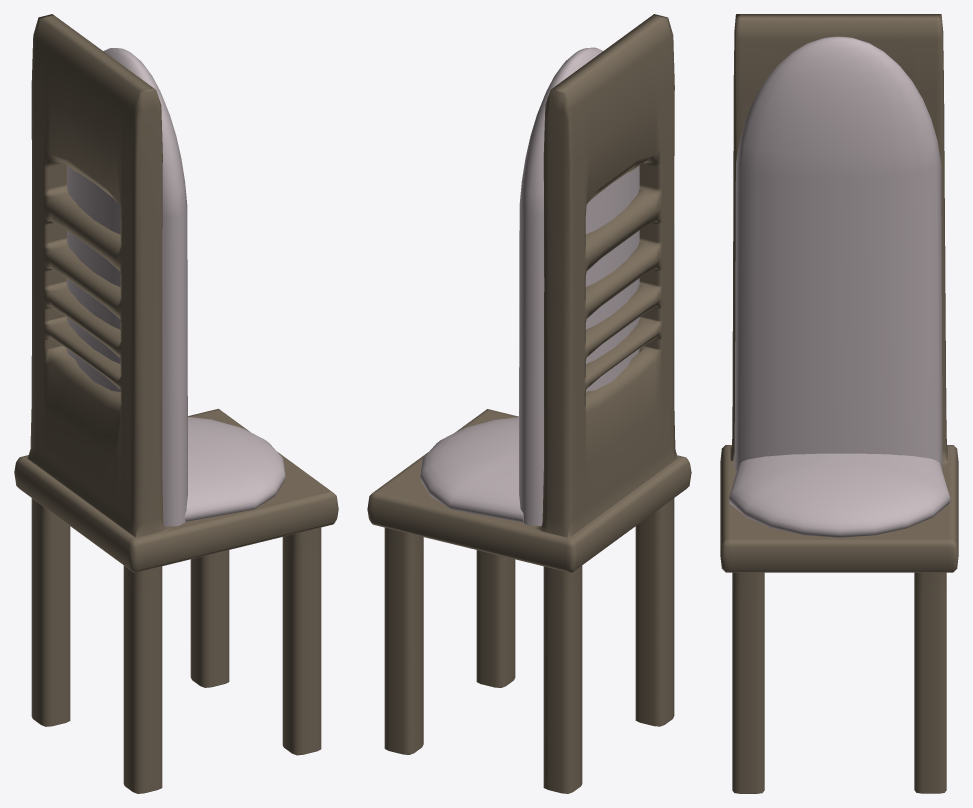
File: chaise_03.fbx
The picture shows the model from 3 angles, left to right: view 1: azimuth 30°, elevation 25°; view 2: azimuth 150°, elevation 25°; view 3: azimuth 270°, elevation 25°; orthographic projection.
Parts seen in each view (by area): view 1: pasted__pasted__pCube7; view 2: pasted__pasted__pCube7; view 3: pasted__pasted__pCube7.
Boxes of the visible parts, x1,y1,x2,y2 form: pasted__pasted__pCube7: (14, 14, 338, 793); pasted__pasted__pCube7: (367, 14, 691, 793); pasted__pasted__pCube7: (720, 14, 958, 793).
Size of the model in its own units: 1.92 by 6.16 by 1.92.
